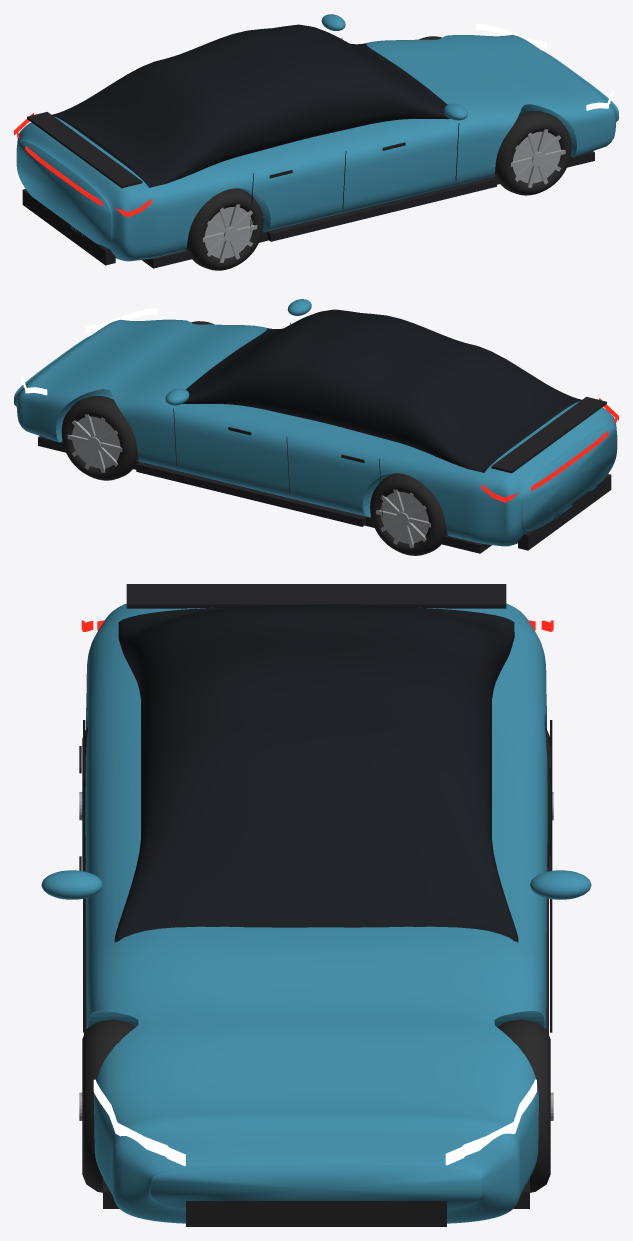
3 renders of one model, top to bottom at view 1: azimuth 30°, elevation 25°; view 2: azimuth 150°, elevation 25°; view 3: azimuth 270°, elevation 25°, orthographic. The views are drawn at different scales.
Parts seen in each view (by area): view 1: Body, Glass, Wheel.001, Wheel.003, Skirt.001, Rear_Spoiler, Rear_Diffuser, Underbody, Taillight_Bar, Headlight_L; view 2: Body, Glass, Wheel, Wheel.002, Skirt, Rear_Spoiler, Rear_Diffuser, Underbody, Taillight_Bar, Headlight_R; view 3: Body, Glass, Rear_Spoiler, Front_Intake, Wheel, Wheel.001, Mirror, Mirror.001, Headlight_R, Headlight_L.
Part boxes in pixels (x1,y1,x2,y2): Body: [16, 35, 618, 261]; Glass: [52, 24, 450, 187]; Wheel.001: [495, 111, 571, 195]; Wheel.003: [186, 188, 263, 270]; Skirt.001: [267, 176, 496, 241]; Rear_Spoiler: [27, 112, 142, 188]; Rear_Diffuser: [22, 189, 115, 265]; Underbody: [142, 150, 594, 268]; Taillight_Bar: [17, 132, 127, 216]; Headlight_L: [476, 24, 546, 48]; Body: [14, 319, 617, 546]; Glass: [166, 309, 581, 472]; Wheel: [61, 396, 138, 480]; Wheel.002: [370, 473, 447, 555]; Skirt: [136, 462, 365, 526]; Rear_Spoiler: [491, 396, 606, 473]; Rear_Diffuser: [518, 474, 611, 550]; Underbody: [38, 435, 491, 553]; Taillight_Bar: [506, 417, 616, 501]; Headlight_R: [85, 308, 157, 333]; Body: [85, 603, 547, 1223]; Glass: [114, 605, 518, 942]; Rear_Spoiler: [126, 584, 506, 608]; Front_Intake: [186, 1201, 446, 1226]; Wheel: [497, 1019, 553, 1192]; Wheel.001: [79, 1019, 135, 1192]; Mirror: [530, 870, 591, 899]; Mirror.001: [41, 870, 102, 899]; Headlight_R: [93, 1079, 185, 1165]; Headlight_L: [445, 1079, 536, 1165].
Size of the model in its own units: 5.05 by 1.47 by 2.32.
